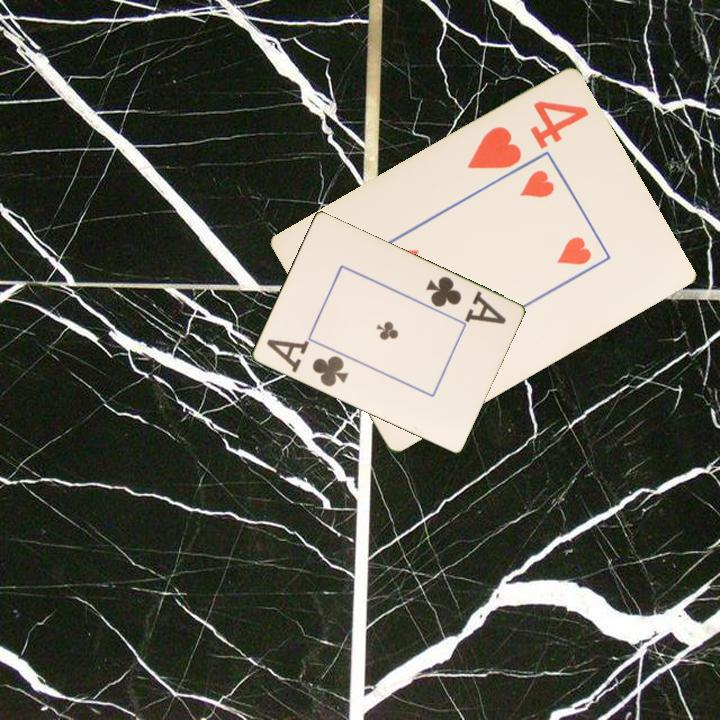4h: (463, 97, 592, 173)
Ac: (262, 335, 351, 390), (422, 273, 509, 327)
